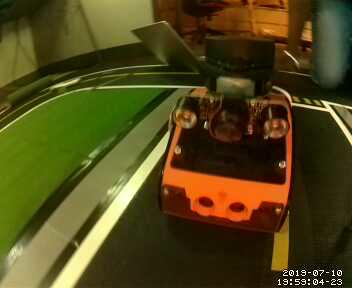pheeno: (161, 34, 294, 237)
